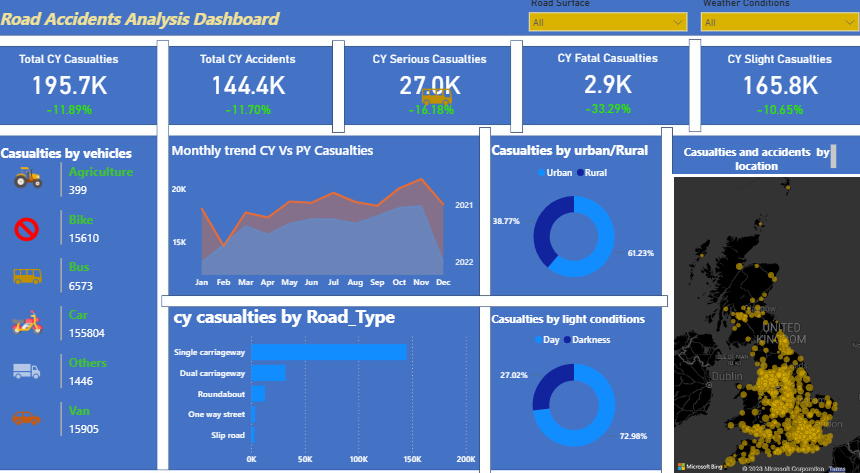

What the dashboard file says about the page in this screenshot:
{"tool":"powerbi","page":{"name":"Page 1","canvas":[1280,720],"ordinal":0},"visuals":[{"type":"card","title":"CY Fatal Casualties","fields":{"Values":["Data.cy casualties"]},"box":[790.8,102.5,209.5,68.3],"z":0,"group":"g4"},{"type":"group","id":"g1","title":"Group 1","box":[14.6,103.1,209.5,110.9],"z":0},{"type":"card","title":"Total CY Casualties","fields":{"Values":["Data.cy casualties"]},"box":[14.6,103.1,209.5,68.3],"z":0,"group":"g1"},{"type":"card","title":"Total CY Accidents","fields":{"Values":["Data.cy Accidents"]},"box":[272.2,103.1,209.5,68.3],"z":0,"group":"g2"},{"type":"card","title":"CY Serious Casualties","fields":{"Values":["Data.cy casualties"]},"box":[534.3,103.1,209.5,68.3],"z":0,"group":"g3"},{"type":"card","title":"CY Slight Casualties","fields":{"Values":["Data.cy casualties"]},"box":[1038.4,103.1,209.5,68.3],"z":0,"group":"g5"},{"type":"group","id":"g2","title":"Group 1","box":[272.2,103.1,209.5,110.9],"z":1000},{"type":"card","title":"Total Casualties","fields":{"Values":["Data.YOY Casualties"]},"box":[790.8,160.7,209.5,52.6],"z":1000,"group":"g4"},{"type":"card","title":"Total Casualties","fields":{"Values":["Data.YOY Casualties"]},"box":[535.9,161.2,209.5,52.6],"z":1000,"group":"g3"},{"type":"card","title":"Total Casualties","fields":{"Values":["Data.YOY Casualties"]},"box":[14.6,161.3,209.5,52.6],"z":1000,"group":"g1"},{"type":"card","title":"Total Casualties","fields":{"Values":["Data.YOY Accidents"]},"box":[272.2,161.3,209.5,52.6],"z":1000,"group":"g2"},{"type":"card","title":"Total Casualties","fields":{"Values":["Data.YOY Casualties"]},"box":[1038.4,161.3,209.5,52.6],"z":1000,"group":"g5"},{"type":"group","id":"g3","title":"Group 1","box":[534.3,103.1,210.6,110.9],"z":2000},{"type":"group","id":"g4","title":"Group 1","box":[790.8,102.5,210.1,110.7],"z":3000},{"type":"group","id":"g5","title":"Group 1","box":[1038.4,103.1,209.5,110.9],"z":4000},{"type":"textbox","box":[14.6,32.5,442.5,51.5],"z":5000},{"type":"multiRowCard","fields":{"Values":["Data.Vehicle_Type (groups)","Data.cy casualties"]},"box":[102.2,257.8,144,440.6],"z":6000},{"type":"image","box":[15.8,466.6,87.8,53.3],"z":7000},{"type":"image","box":[15.8,400.3,87.8,53.3],"z":8000},{"type":"image","box":[17.3,257.8,86.4,53.3],"z":9000},{"type":"image","box":[14.4,604.8,87.8,53.3],"z":10000},{"type":"image","box":[14.4,332.6,87.8,53.3],"z":11000},{"type":"image","box":[15.8,537.1,86.4,51.8],"z":12000},{"type":"image","box":[607,140,83,57],"z":13000},{"type":"areaChart","title":"Monthly trend CY Vs PY Casualties","fields":{"Category":["Calender.Month Name"],"Y":["Sum(Data.Number_of_Casualties)"],"Series":["Calender.Year"]},"box":[262.1,231.8,445,221.8],"z":14000},{"type":"clusteredBarChart","fields":{"Category":["Data.Road_Type"],"Y":["Data.cy casualties"]},"box":[265,466.6,445,241.9],"z":15000},{"type":"donutChart","title":"Casualties by urban/Rural","fields":{"Category":["Data.Urban_or_Rural_Area"],"Y":["Sum(Data.Number_of_Casualties)"]},"box":[722.9,231.8,247.7,221.8],"z":16000},{"type":"donutChart","title":"Casualties by light conditions","fields":{"Y":["Sum(Data.Number_of_Casualties)"],"Category":["Data.Light_Conditions (groups)"]},"box":[722.9,476.6,247.7,221.8],"z":17000},{"type":"map","fields":{"Category":["Data.Local_Authority_(District)"],"Y":["Avg(Data.Latitude)"],"X":["Avg(Data.Longitude)"],"Size":["Sum(Data.Number_of_Casualties)"]},"box":[986.4,279.4,280.8,440.6],"z":18000},{"type":"textbox","box":[15.8,231.8,230.4,40.3],"z":19000},{"type":"textbox","box":[999.4,231.8,230.4,47.5],"z":20000},{"type":"slicer","fields":{"Values":["Data.Weather_Conditions (groups)"]},"box":[1019.5,18.7,247.7,66.2],"z":21000},{"type":"slicer","fields":{"Values":["Data.Road_Surface_Conditions (groups)"]},"box":[771.8,18.7,247.7,66.2],"z":22000}]}

Visuals, with their boxes in screenshot pixels (x1, y1, x2, y2), scaled from the page's 1280x720 canvas onto the 860x473 screenshot:
"CY Fatal Casualties" card: [x1=531, y1=67, x2=672, y2=112]
"Group 1" group: [x1=10, y1=68, x2=151, y2=141]
"Total CY Casualties" card: [x1=10, y1=68, x2=151, y2=113]
"Total CY Accidents" card: [x1=183, y1=68, x2=324, y2=113]
"CY Serious Casualties" card: [x1=359, y1=68, x2=500, y2=113]
"CY Slight Casualties" card: [x1=698, y1=68, x2=838, y2=113]
"Group 1" group: [x1=183, y1=68, x2=324, y2=141]
"Total Casualties" card: [x1=531, y1=106, x2=672, y2=140]
"Total Casualties" card: [x1=360, y1=106, x2=501, y2=140]
"Total Casualties" card: [x1=10, y1=106, x2=151, y2=141]
"Total Casualties" card: [x1=183, y1=106, x2=324, y2=141]
"Total Casualties" card: [x1=698, y1=106, x2=838, y2=141]
"Group 1" group: [x1=359, y1=68, x2=500, y2=141]
"Group 1" group: [x1=531, y1=67, x2=672, y2=140]
"Group 1" group: [x1=698, y1=68, x2=838, y2=141]
textbox: [x1=10, y1=21, x2=307, y2=55]
multiRowCard - Data.Vehicle_Type (groups) x Data.cy casualties: [x1=69, y1=169, x2=165, y2=459]
image: [x1=11, y1=307, x2=70, y2=342]
image: [x1=11, y1=263, x2=70, y2=298]
image: [x1=12, y1=169, x2=70, y2=204]
image: [x1=10, y1=397, x2=69, y2=432]
image: [x1=10, y1=218, x2=69, y2=254]
image: [x1=11, y1=353, x2=69, y2=387]
image: [x1=408, y1=92, x2=464, y2=129]
"Monthly trend CY Vs PY Casualties" areaChart: [x1=176, y1=152, x2=475, y2=298]
clusteredBarChart - Data.Road_Type x Data.cy casualties: [x1=178, y1=307, x2=477, y2=465]
"Casualties by urban/Rural" donutChart: [x1=486, y1=152, x2=652, y2=298]
"Casualties by light conditions" donutChart: [x1=486, y1=313, x2=652, y2=459]
map - Data.Local_Authority_(District) x Avg(Data.Latitude): [x1=663, y1=184, x2=851, y2=472]
textbox: [x1=11, y1=152, x2=165, y2=179]
textbox: [x1=671, y1=152, x2=826, y2=183]
slicer - Data.Weather_Conditions (groups): [x1=685, y1=12, x2=851, y2=56]
slicer - Data.Road_Surface_Conditions (groups): [x1=519, y1=12, x2=685, y2=56]
